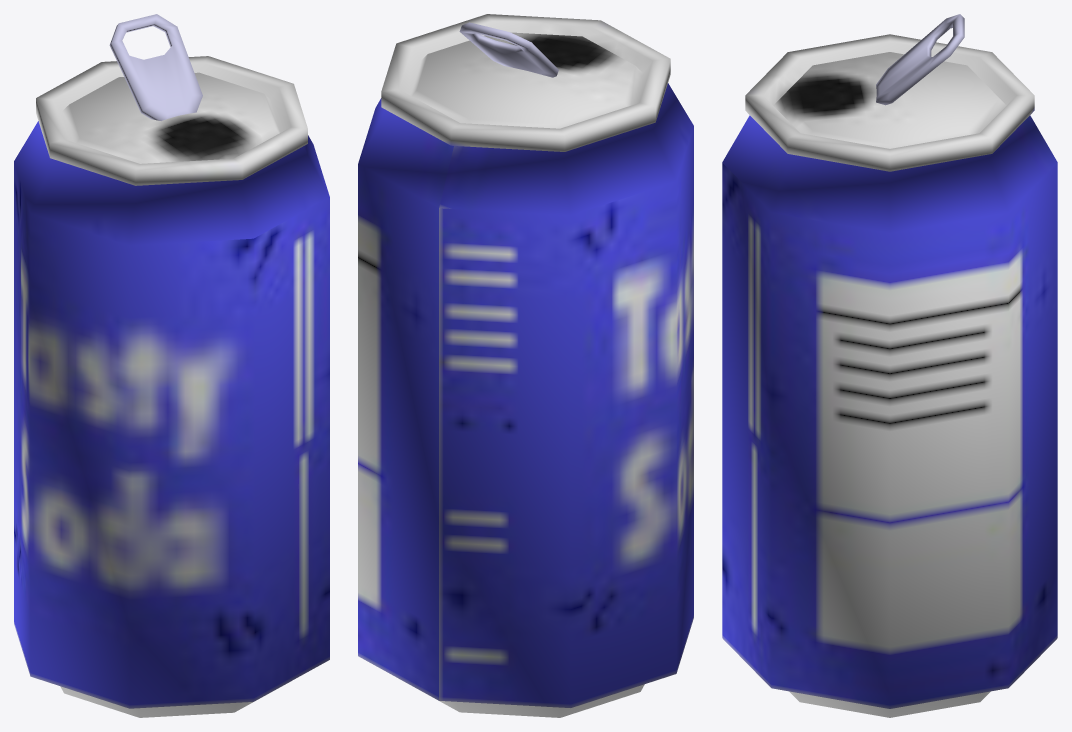
File: soda.fbx
3 views of the same model, side by side, from view 1: azimuth 30°, elevation 25°; view 2: azimuth 150°, elevation 25°; view 3: azimuth 270°, elevation 25° (orthographic). The views are drawn at different scales.
Visible parts, largest first — view 1: Cylinder_0, Plane_0; view 2: Cylinder_0, Plane_0; view 3: Cylinder_0, Plane_0.
Boxes of the visible parts, x1,y1,x2,y2 form: Cylinder_0: (14,56,329,717); Plane_0: (109,14,202,120); Cylinder_0: (358,14,693,717); Plane_0: (459,22,558,77); Cylinder_0: (722,34,1057,717); Plane_0: (876,14,964,105).
Size of the model in its own units: 49.66 by 49.66 by 105.
